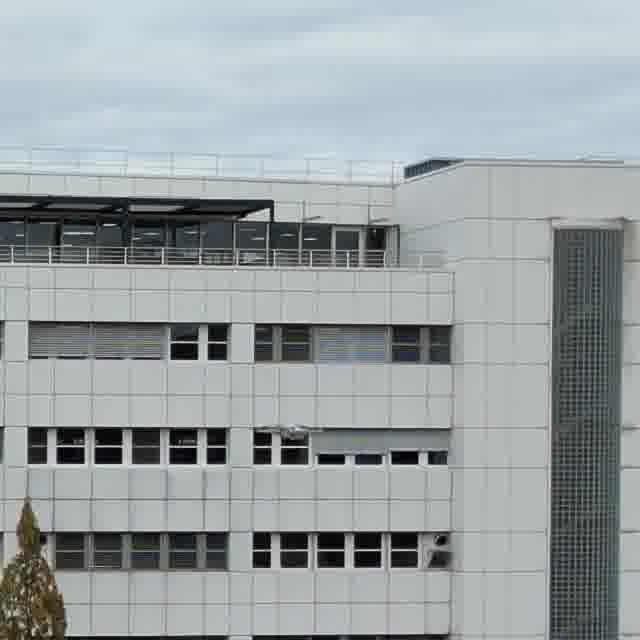Drohne: (259, 424, 321, 438)
